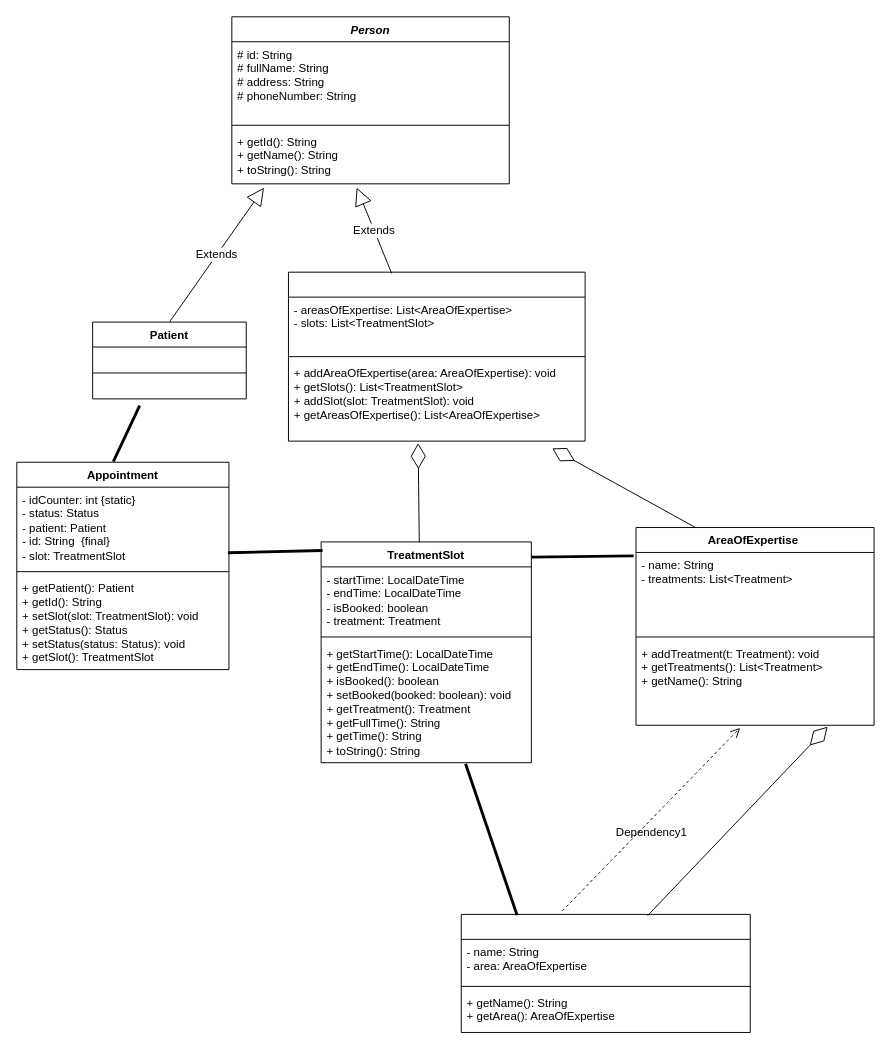
Some shapes in this 891 by 1052 pixel diagram are drawn without their labels. The box of each missing label's shape, as (x1, y1, x2, y2) in pixels:
Physiotherapist: (288, 271, 585, 441)
Treatment: (460, 913, 750, 1032)
